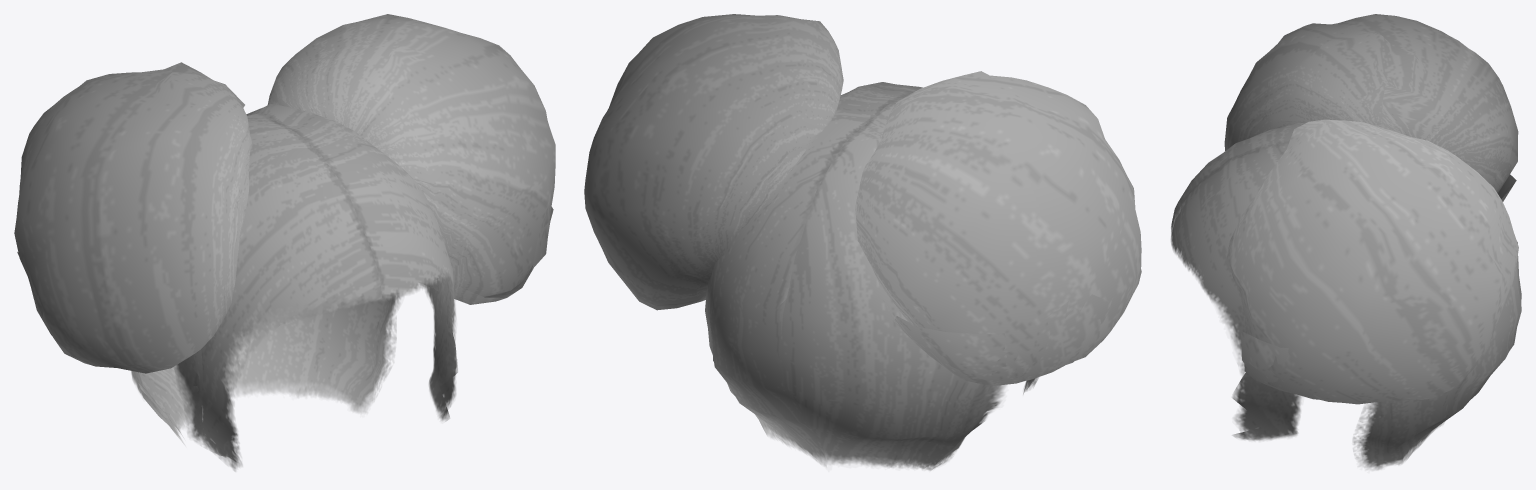
Rendered from daz_hair_twin_buns.glb.
3 views of the same model, side by side, from view 1: azimuth 30°, elevation 25°; view 2: azimuth 150°, elevation 25°; view 3: azimuth 270°, elevation 25° (orthographic). The views are drawn at different scales.
Parts seen in each view (by area): view 1: daz_hair_twin_buns; view 2: daz_hair_twin_buns; view 3: daz_hair_twin_buns.
Part boxes in pixels (x1=…): daz_hair_twin_buns: x1=14, y1=14, x2=555, y2=471; daz_hair_twin_buns: x1=584, y1=14, x2=1141, y2=470; daz_hair_twin_buns: x1=1171, y1=14, x2=1521, y2=470.
Bounding box in the file's own units: 0.275 × 0.2052 × 0.1823.
1 material, 1 textured.
